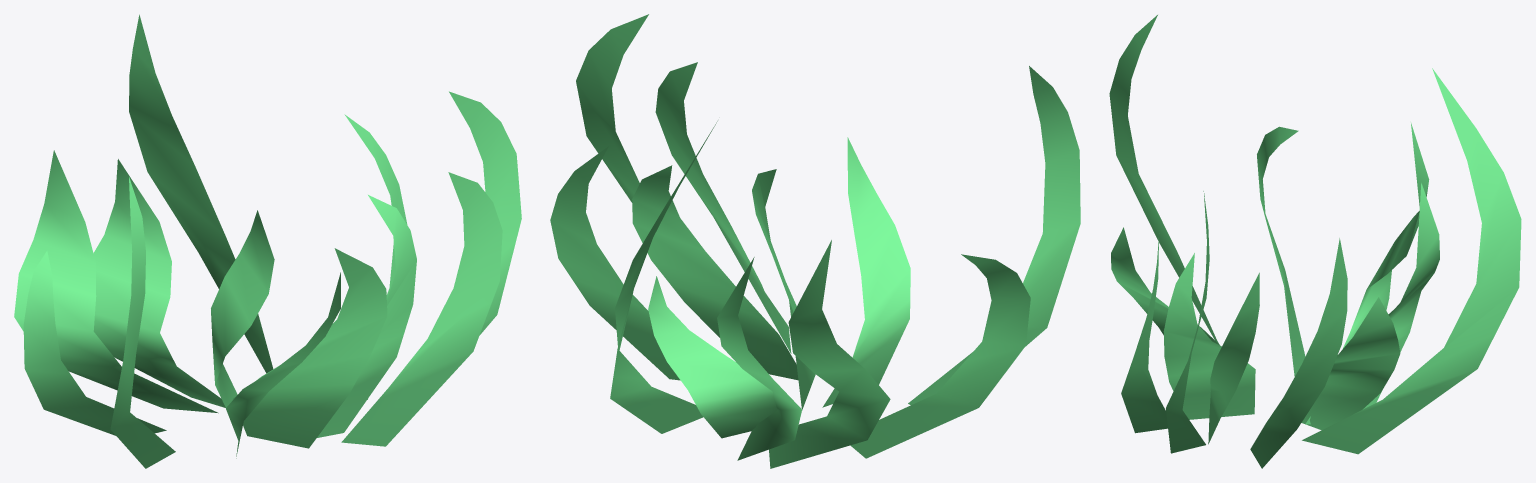
The model's file is Grass01.fbx.
3 views of the same model, side by side, from view 1: azimuth 30°, elevation 25°; view 2: azimuth 150°, elevation 25°; view 3: azimuth 270°, elevation 25° (orthographic). The views are drawn at different scales.
Visible parts, largest first — view 1: Grass01_LOD0; view 2: Grass01_LOD0; view 3: Grass01_LOD0.
Part boxes in pixels (x1,y1,x2,y2): Grass01_LOD0: (14, 14, 521, 468); Grass01_LOD0: (550, 14, 1080, 468); Grass01_LOD0: (1109, 15, 1521, 468).
Size of what is drawn, in the model's own units: 98.3 by 73.53 by 79.03.
1 material, 1 textured.
